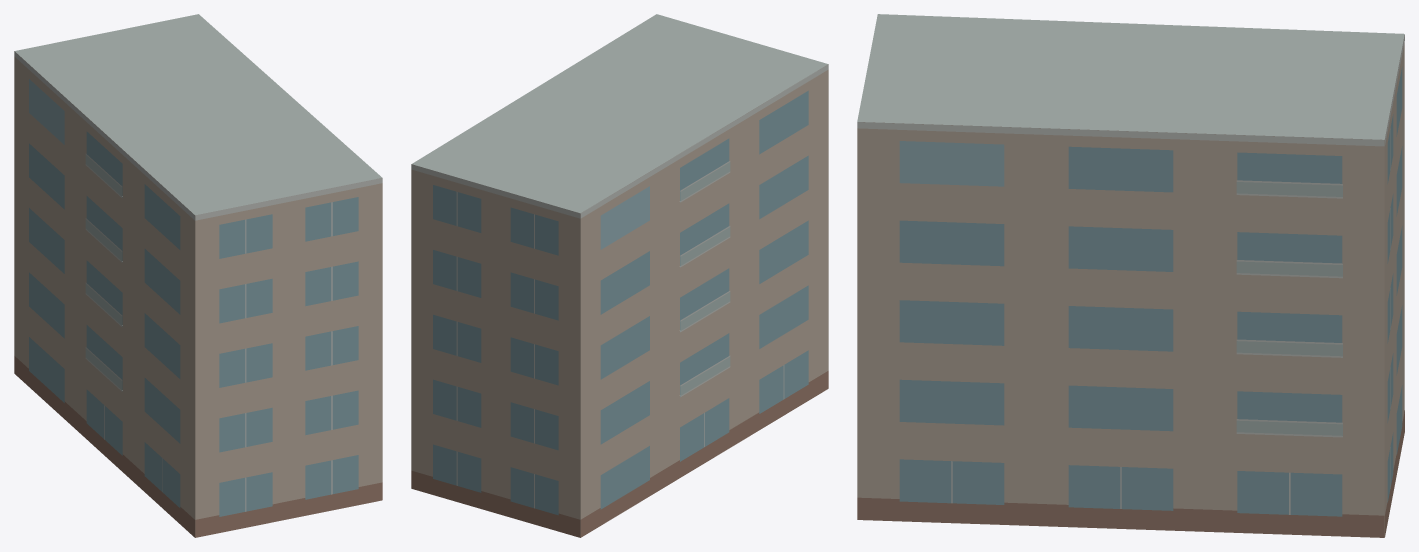
The model's file is survey-upis-32769971.glb.
3 views of the same model, side by side, from view 1: azimuth 30°, elevation 25°; view 2: azimuth 150°, elevation 25°; view 3: azimuth 270°, elevation 25° (orthographic). The views are drawn at different scales.
Visible parts, largest first — view 1: survey-upis-32769971.tmp; view 2: survey-upis-32769971.tmp; view 3: survey-upis-32769971.tmp.
Part boxes in pixels (x1=…): survey-upis-32769971.tmp: x1=14, y1=14, x2=382, y2=537; survey-upis-32769971.tmp: x1=411, y1=14, x2=828, y2=537; survey-upis-32769971.tmp: x1=857, y1=14, x2=1404, y2=537.
Bounding box in the file's own units: 9.98 × 14.7 × 18.34.
